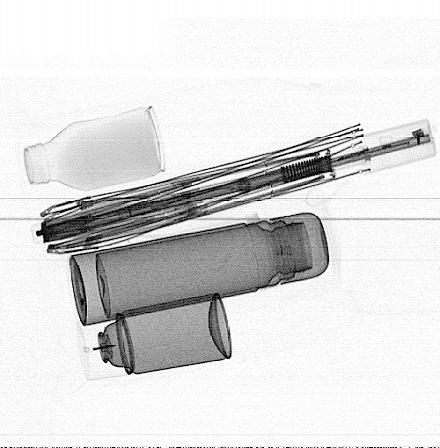Sprayer: (74, 291, 232, 381)
